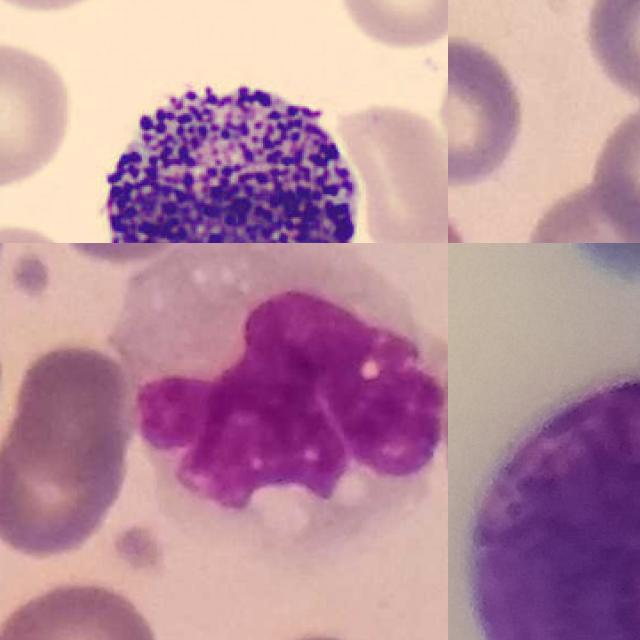Basophil: (79, 58, 373, 243), (466, 373, 640, 640)
Monocyte: (124, 243, 447, 530)
RBC: (334, 97, 448, 243), (0, 35, 76, 192), (330, 0, 448, 53)
